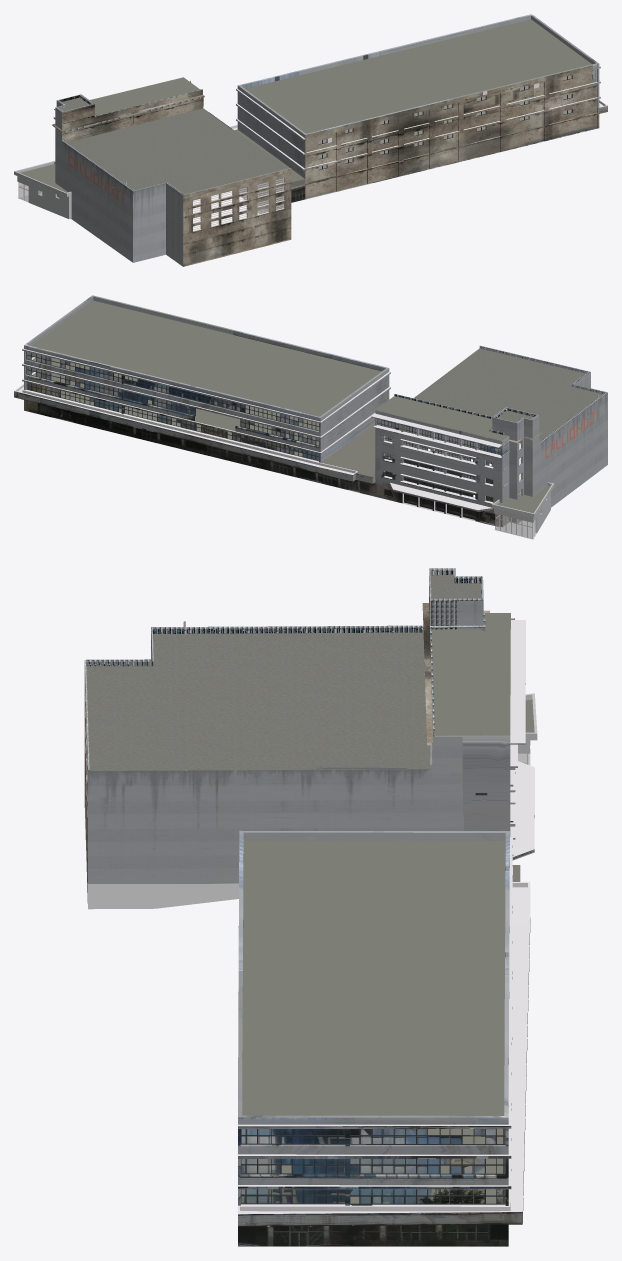
File: abandoned_factory.glb
3 renders of one model, top to bottom at view 1: azimuth 30°, elevation 25°; view 2: azimuth 150°, elevation 25°; view 3: azimuth 270°, elevation 25°, orthographic. The views are drawn at different scales.
Parts seen in each view (by area): view 1: CALLIONDJI_ALBEDO.012_Asphalt.001_0, CALLIONDJI_ALBEDO.019_OLD BLDG 2.001_0, Cube.044_Material.018_0, Cube.051_OLD BLDG 1.001_0, CALLIONDJI_ALBEDO.019_CALLIONDJI_ALBEDO.001_0, CALLIONDJI_ALBEDO.014_steel dark used.001_0, CALLIONDJI_ALBEDO.013_Dusty glass.001_0; view 2: CALLIONDJI_ALBEDO.012_Asphalt.001_0, CALLIONDJI_ALBEDO.019_CALLIONDJI_ALBEDO.001_0, CALLIONDJI_ALBEDO.014_steel dark used.001_0, Cube.044_Material.018_0, CALLIONDJI_ALBEDO.015_GLASS.001_0, CALLIONDJI_ALBEDO.013_Dusty glass.001_0; view 3: CALLIONDJI_ALBEDO.012_Asphalt.001_0, Cube.044_Material.018_0, CALLIONDJI_ALBEDO.019_CALLIONDJI_ALBEDO.001_0, CALLIONDJI_ALBEDO.014_steel dark used.001_0, CALLIONDJI_ALBEDO.015_GLASS.001_0, Cube.051_OLD BLDG 1.001_0.
Part boxes in pixels (x1,y1,x2,y2): CALLIONDJI_ALBEDO.012_Asphalt.001_0: (20, 19, 591, 194); CALLIONDJI_ALBEDO.019_OLD BLDG 2.001_0: (304, 65, 599, 199); Cube.044_Material.018_0: (14, 81, 283, 266); Cube.051_OLD BLDG 1.001_0: (52, 89, 291, 266); CALLIONDJI_ALBEDO.019_CALLIONDJI_ALBEDO.001_0: (54, 14, 607, 202); CALLIONDJI_ALBEDO.014_steel dark used.001_0: (18, 66, 607, 231); CALLIONDJI_ALBEDO.013_Dusty glass.001_0: (19, 75, 571, 230); CALLIONDJI_ALBEDO.012_Asphalt.001_0: (31, 300, 602, 513); CALLIONDJI_ALBEDO.019_CALLIONDJI_ALBEDO.001_0: (14, 295, 607, 526); CALLIONDJI_ALBEDO.014_steel dark used.001_0: (14, 348, 598, 538); Cube.044_Material.018_0: (382, 372, 607, 539); CALLIONDJI_ALBEDO.015_GLASS.001_0: (26, 352, 500, 501); CALLIONDJI_ALBEDO.013_Dusty glass.001_0: (496, 514, 534, 537); CALLIONDJI_ALBEDO.012_Asphalt.001_0: (86, 575, 534, 1203); Cube.044_Material.018_0: (86, 568, 537, 909); CALLIONDJI_ALBEDO.019_CALLIONDJI_ALBEDO.001_0: (84, 568, 534, 1246); CALLIONDJI_ALBEDO.014_steel dark used.001_0: (85, 620, 534, 1226); CALLIONDJI_ALBEDO.015_GLASS.001_0: (241, 1128, 503, 1203); Cube.051_OLD BLDG 1.001_0: (84, 576, 489, 903).
Size of the model in its own units: 161 by 29.92 by 60.61.
Materials: 8 (8 with a texture image).
